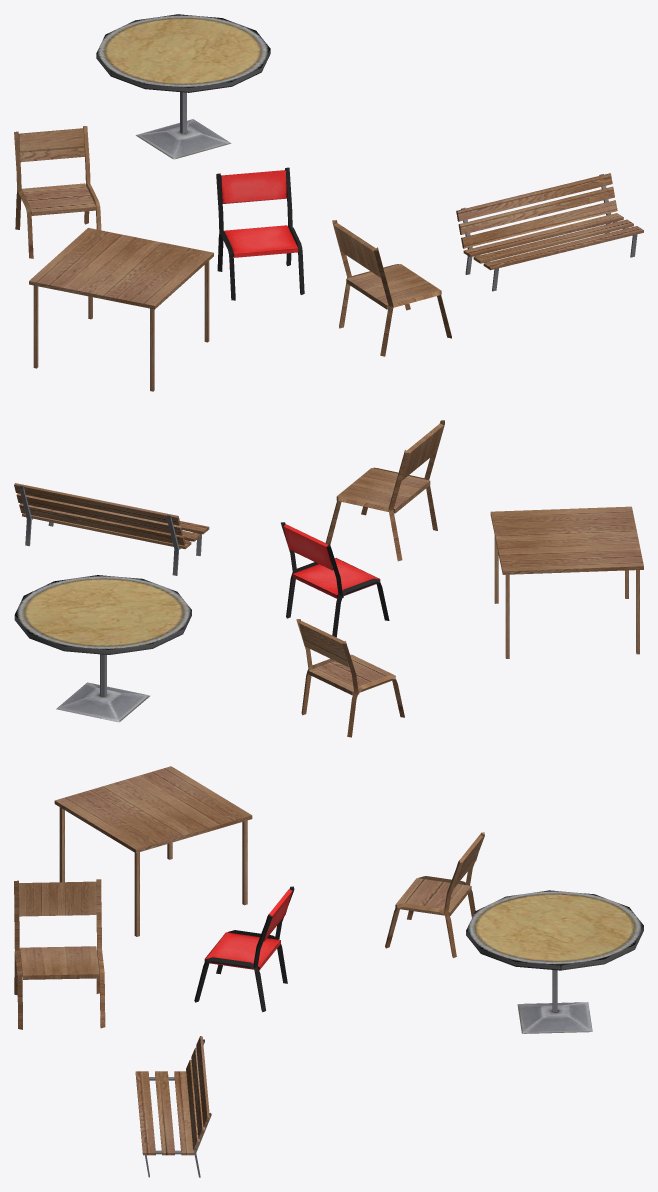
Rendered from jiaju.fbx.
The picture shows the model from 3 angles, top to bottom: view 1: azimuth 30°, elevation 25°; view 2: azimuth 150°, elevation 25°; view 3: azimuth 270°, elevation 25°; orthographic projection. The views are drawn at different scales.
Parts seen in each view (by area): view 1: polySurface56, polySurface41, polySurface55, polySurface95, polySurface96, polySurface39; view 2: polySurface56, polySurface41, polySurface55, polySurface39, polySurface96, polySurface95; view 3: polySurface56, polySurface41, polySurface39, polySurface55, polySurface95, polySurface96.
Part boxes in pixels (left/top/right/bottom): polySurface56: left=96, top=14, right=270, bottom=159; polySurface41: left=29, top=228, right=213, bottom=391; polySurface55: left=456, top=173, right=643, bottom=291; polySurface95: left=216, top=167, right=304, bottom=300; polySurface96: left=14, top=126, right=101, bottom=258; polySurface39: left=332, top=220, right=451, bottom=356; polySurface56: left=14, top=575, right=191, bottom=722; polySurface41: left=490, top=506, right=643, bottom=658; polySurface55: left=14, top=483, right=209, bottom=575; polySurface39: left=325, top=420, right=444, bottom=561; polySurface96: left=296, top=619, right=404, bottom=737; polySurface95: left=281, top=522, right=389, bottom=637; polySurface56: left=466, top=890, right=643, bottom=1033; polySurface41: left=54, top=766, right=252, bottom=936; polySurface39: left=14, top=879, right=105, bottom=1029; polySurface55: left=135, top=1036, right=211, bottom=1177; polySurface95: left=194, top=886, right=294, bottom=1012; polySurface96: left=385, top=832, right=484, bottom=957.
Size of the model in its own units: 9.06 by 1.95 by 8.06.
